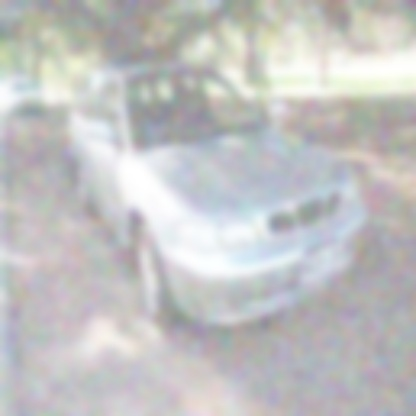Vehicle: (68, 66, 370, 334)
